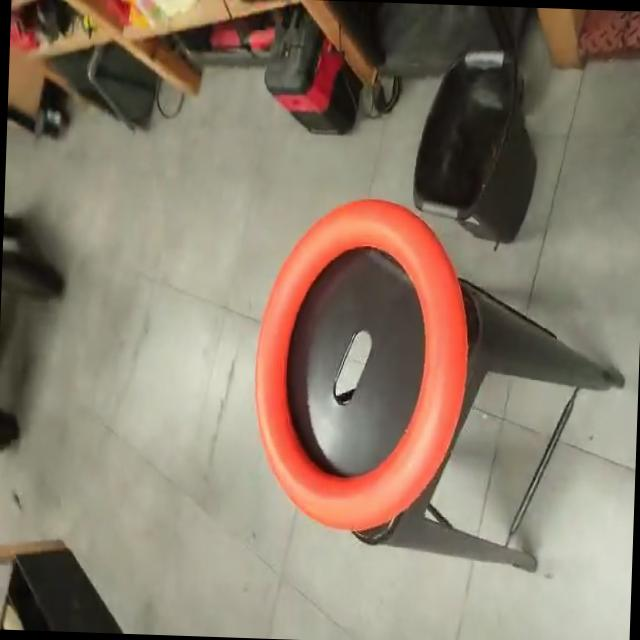note: (246, 192, 478, 536)
